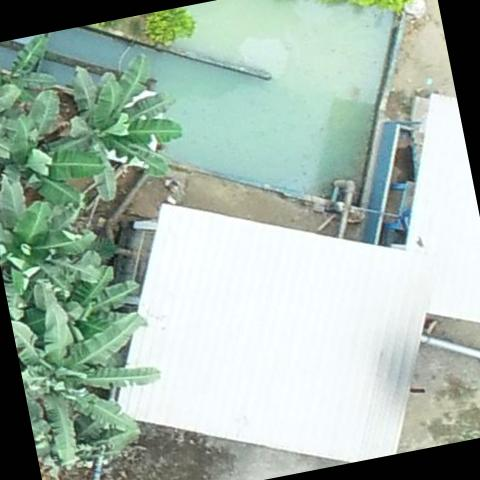Banana-plant: (8, 276, 176, 477), (39, 46, 194, 214), (0, 80, 120, 241), (3, 253, 157, 374), (0, 145, 103, 312), (0, 32, 66, 133)
